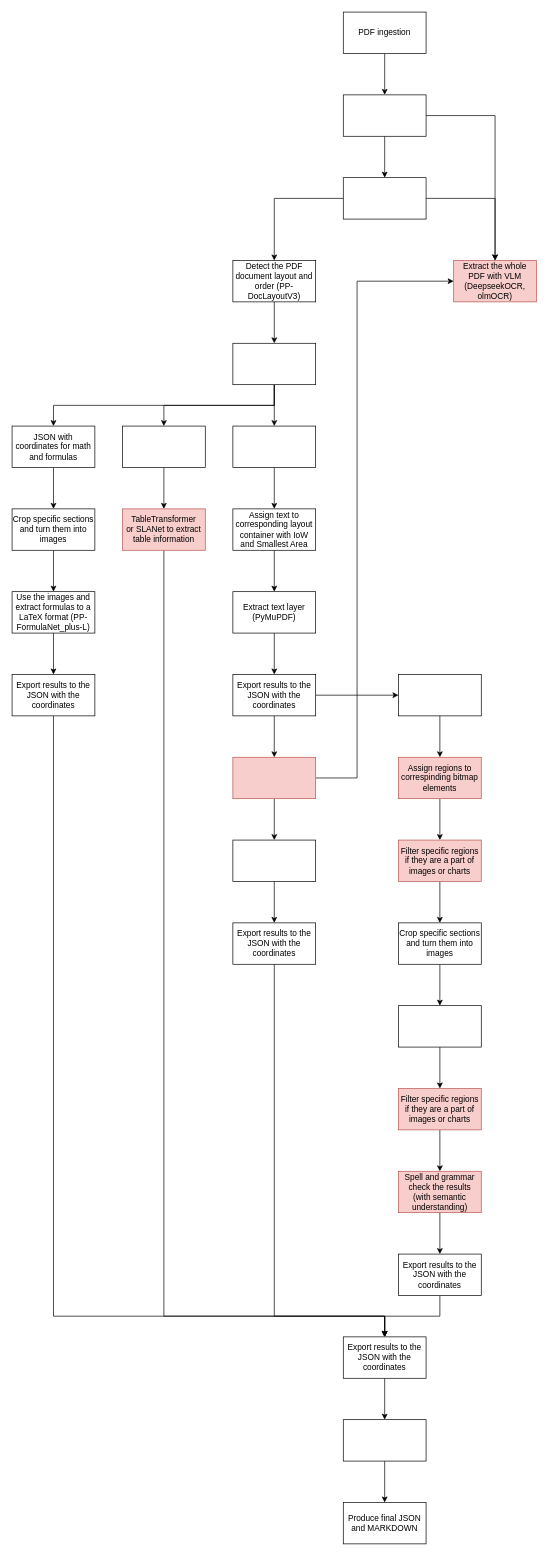
Image size: 549x1556. Some labels were removed from this diagram. The shapes that lost their labels are listed below. From the top down, each one's centre as x and y in pixels, then its label:
At [384,115]: "Check if the PDF has text layer".
At [384,198]: "Check if the PDF is scanned (Bitmap element percentage)".
At [274,364]: "Split and filter the layout results JSON based on different sections".
At [163,446]: "JSON with coordinates for tables".
At [274,446]: "JSON with coordinates for regular text sections (paragraphs, titles...)".
At [439,695]: "Empty sections split into a different JSON with empty text regions".
At [274,778]: "Asses if the text layer produces good results (?BERT?)".
At [274,860]: "Post-process text output to have correct and unified structure".
At [439,1026]: "Use the images and extract text (PP-OCRv5_server_det & server_rec)".
At [384,1440]: "Reconstruct each JSON output to a single unified one".
